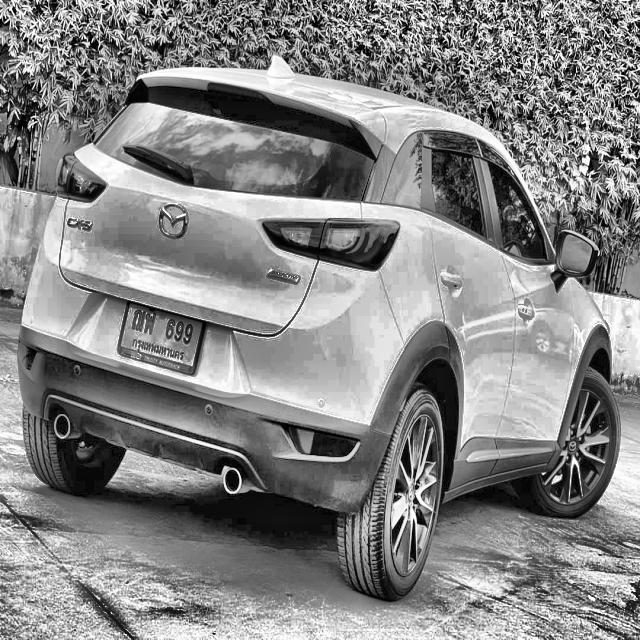license-plate: (115, 298, 207, 378)
